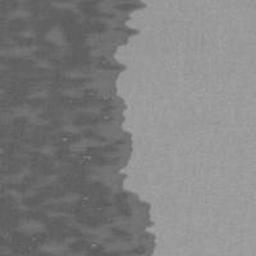Water spot: (0, 0, 157, 256)
